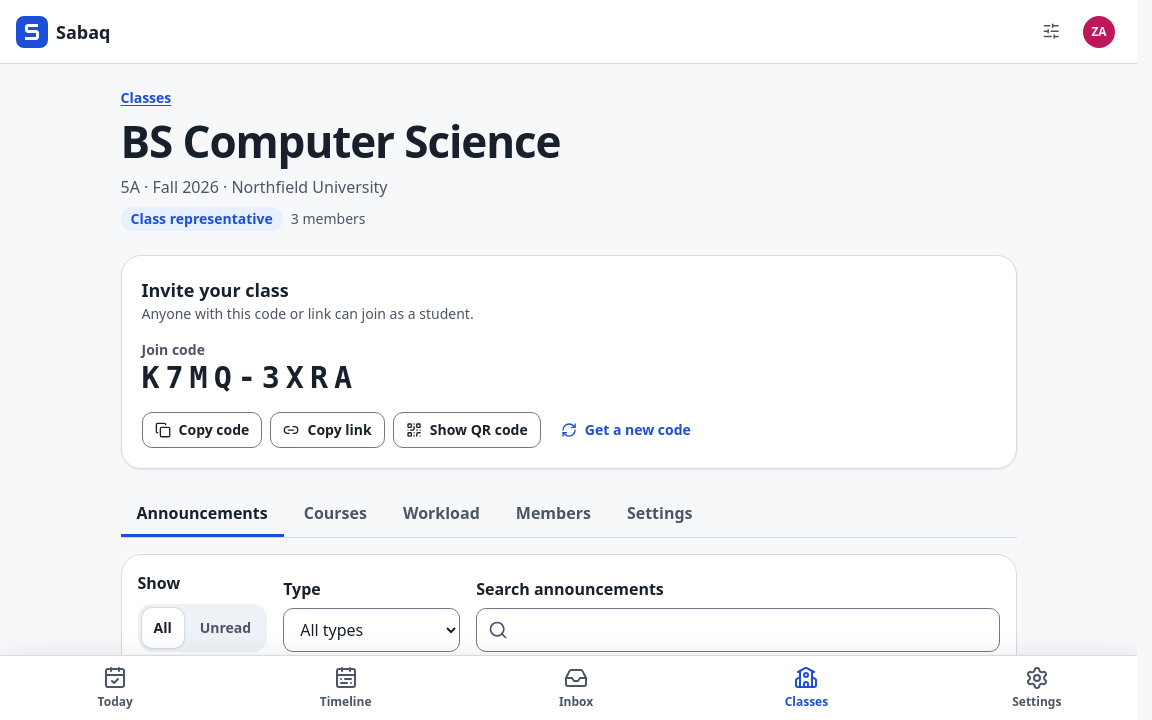
Test: a class › replaces the join code after confirming
The image size is (1152, 720).
Step 1. Click the button "Get a new code" → point(626, 430), box x1=549 y1=412 x2=703 y2=448
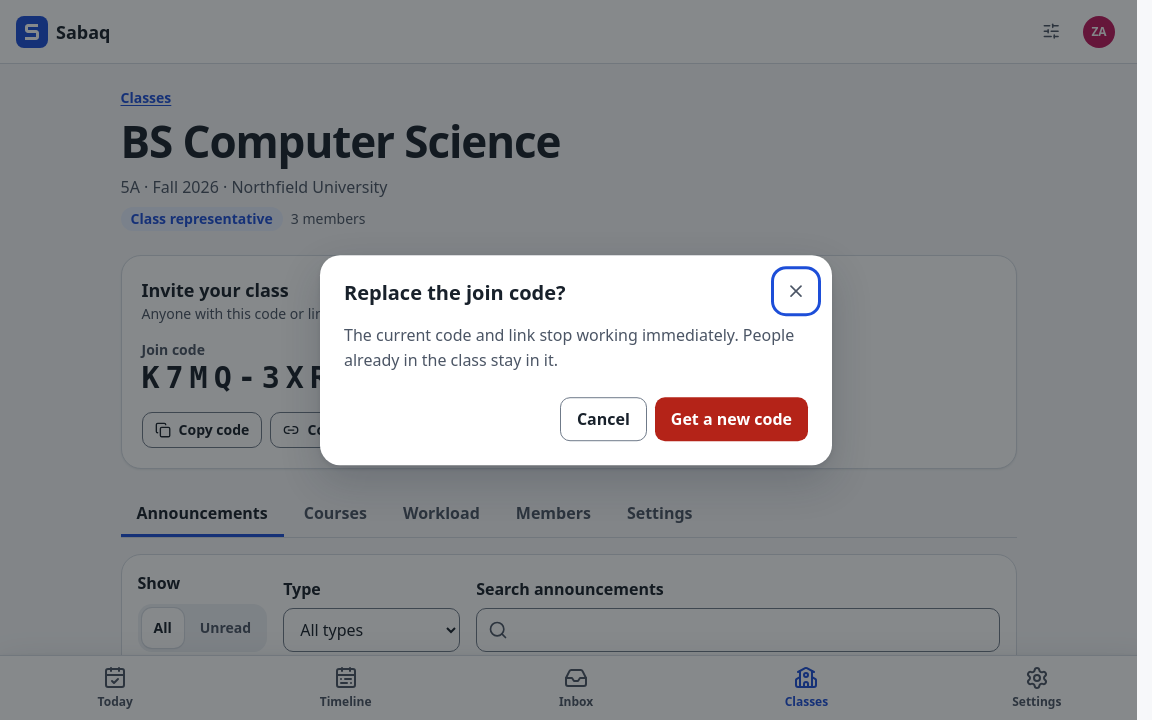
Step 2. Click the button "Get a new code" → point(731, 419), box x1=655 y1=397 x2=808 y2=441
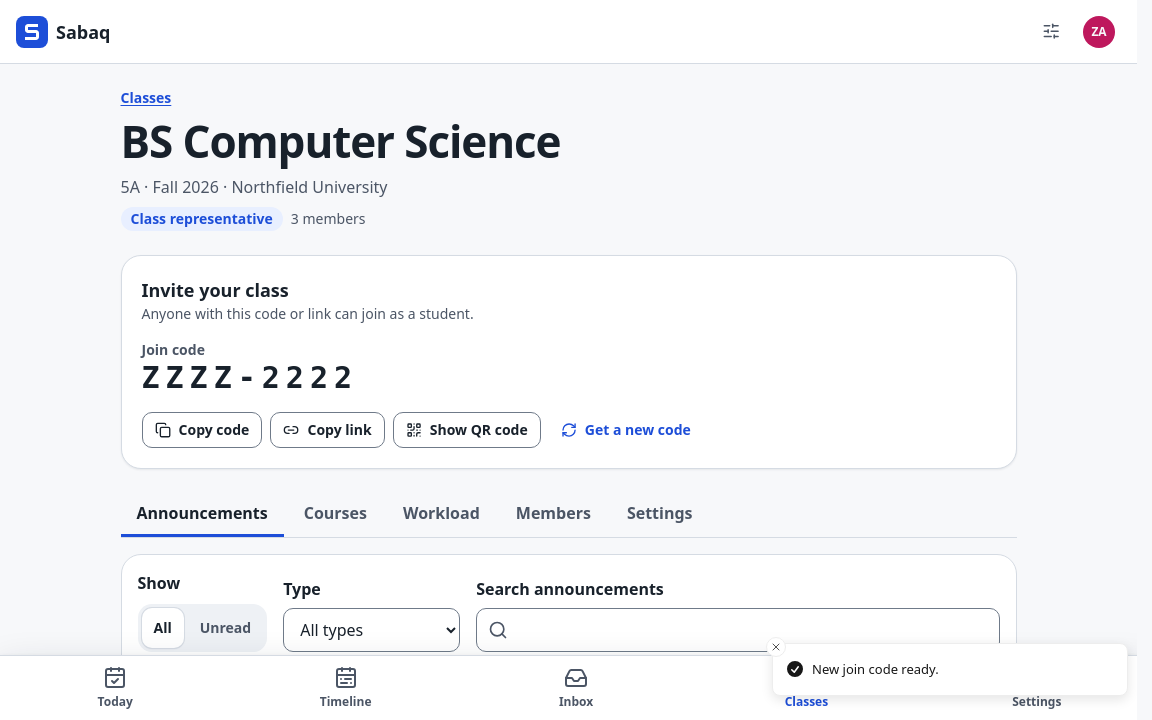
Check: the text "ZZZZ-2222" is shown, box x1=142 y1=360 x2=358 y2=396
